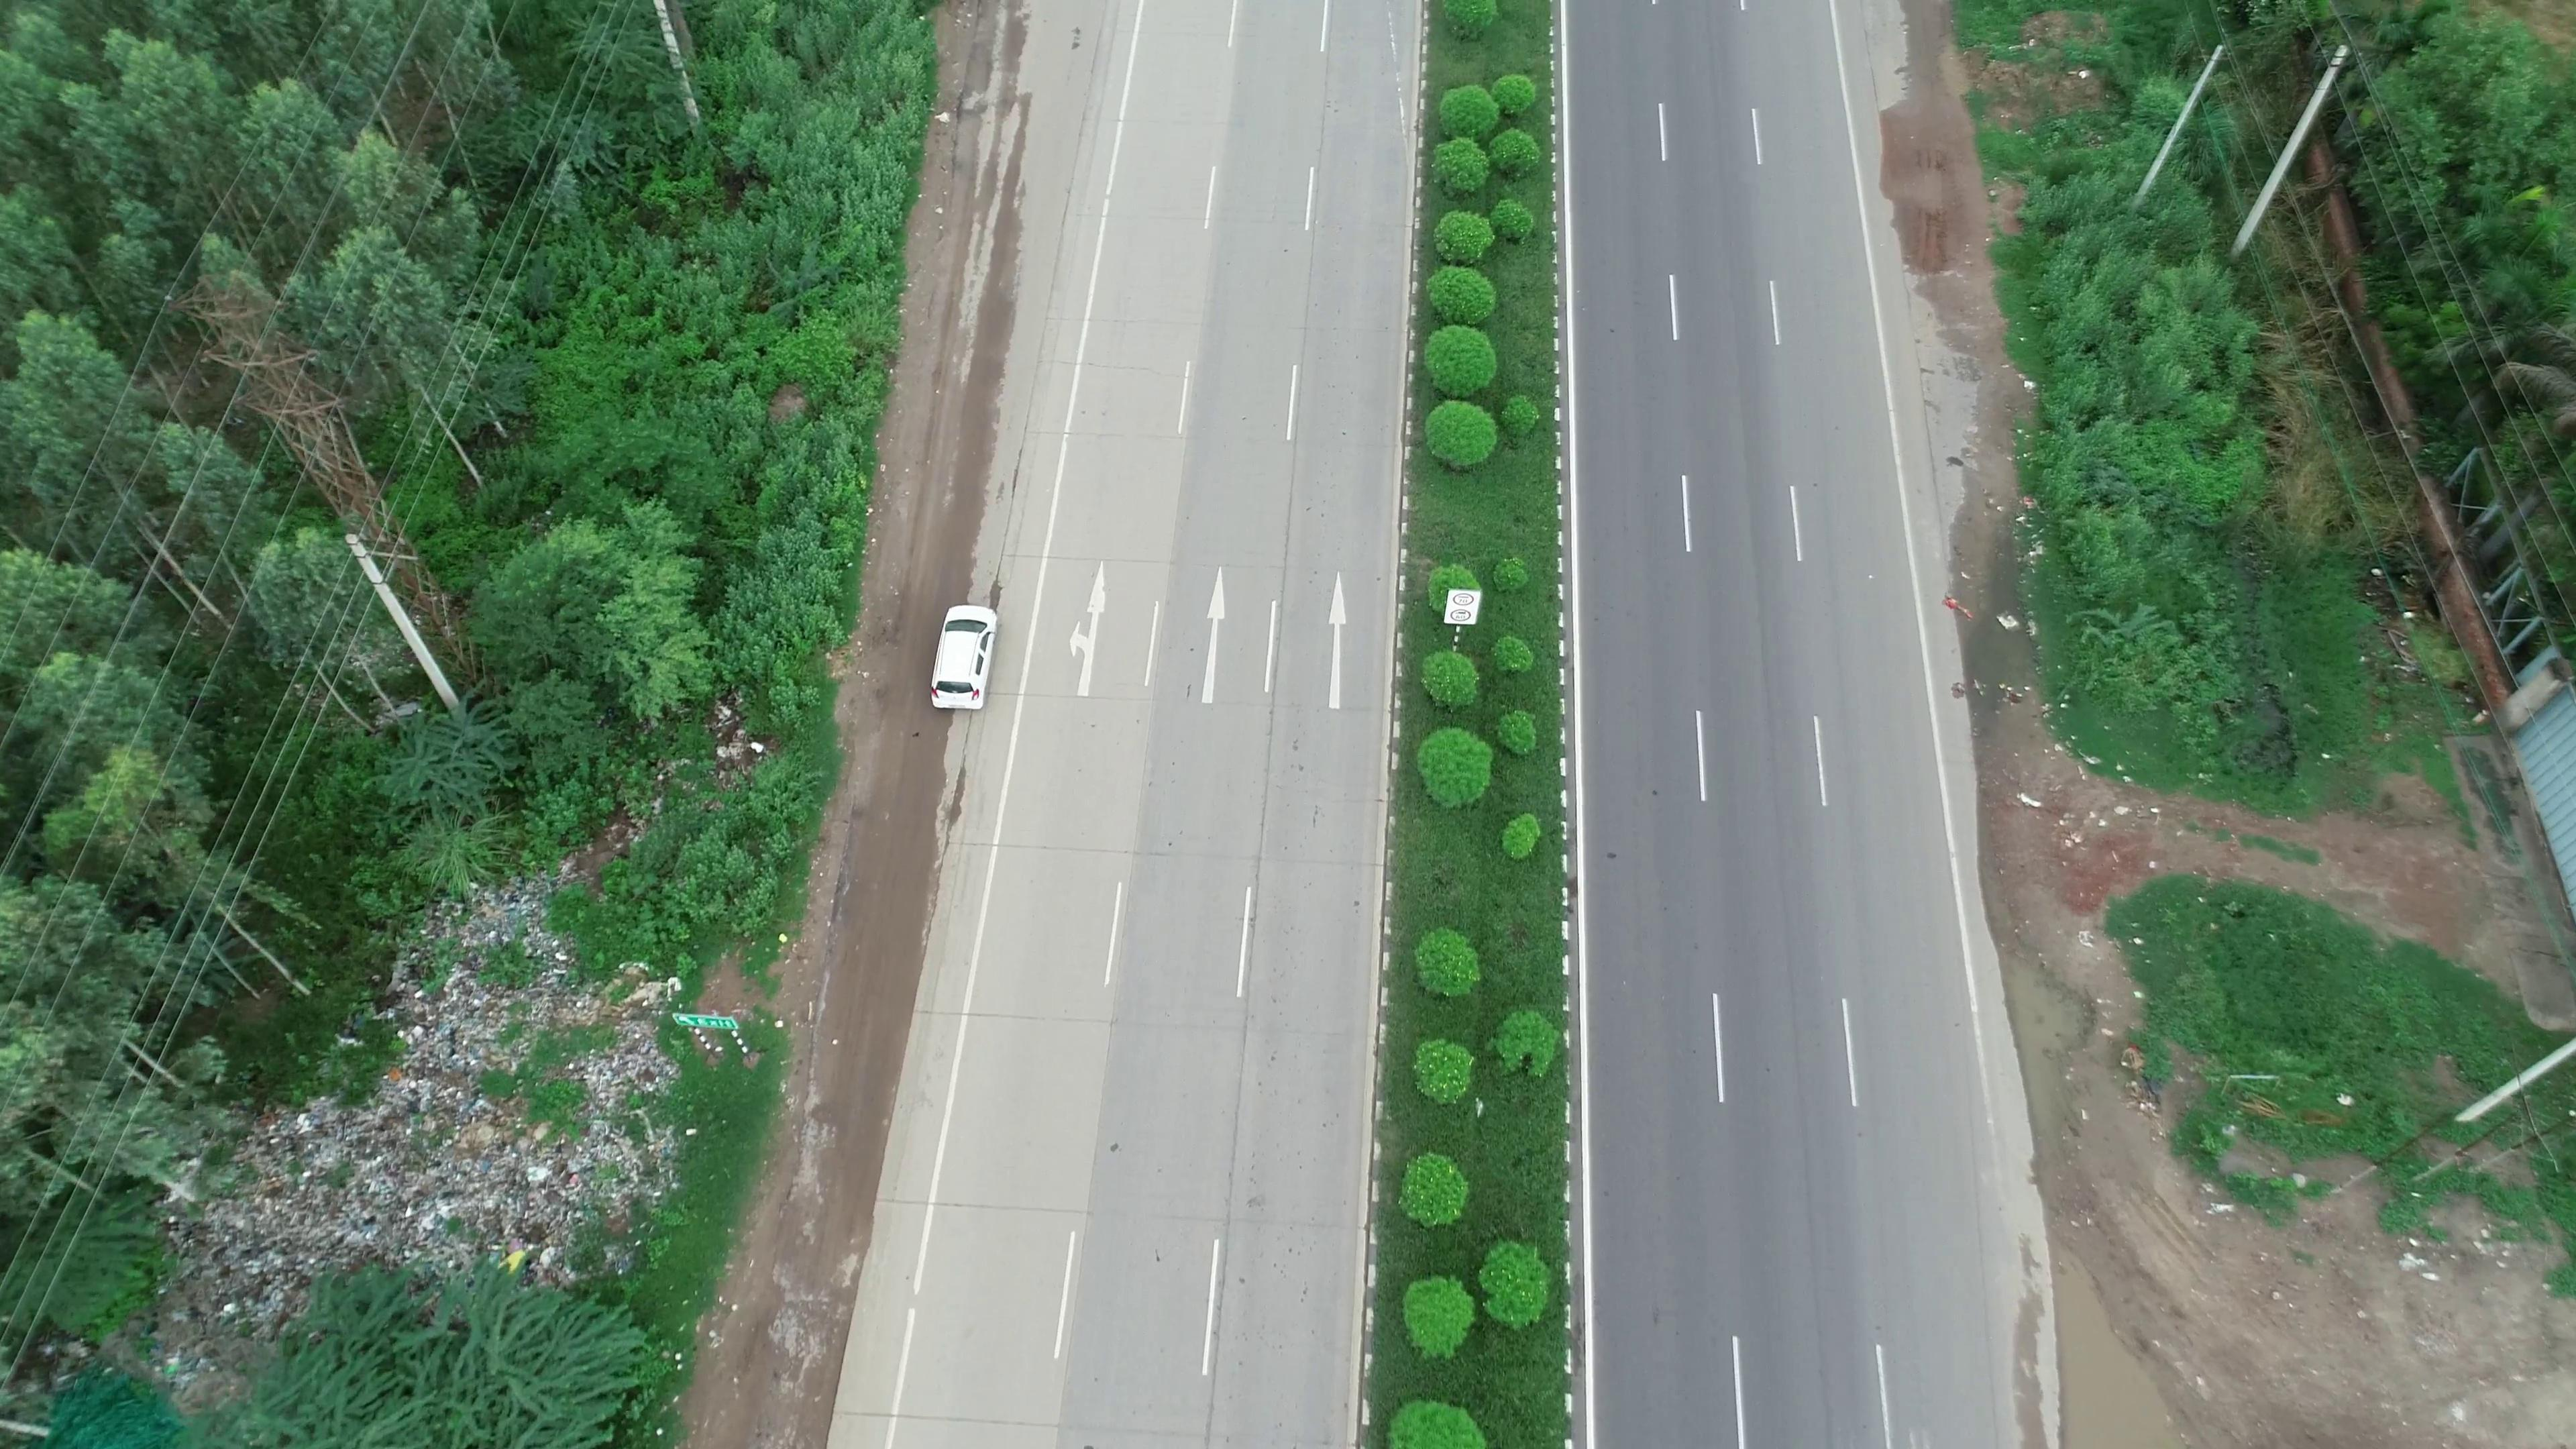Road_side_garbage: (225, 901, 699, 1272)
